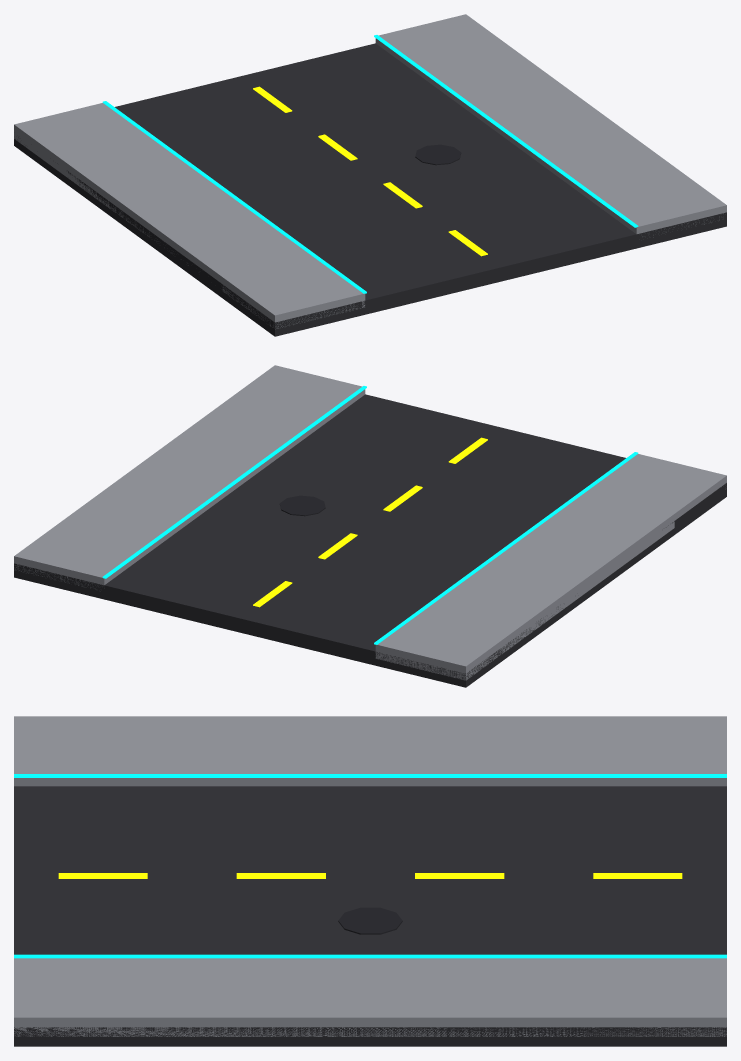
File: Tile_RoadStraight.fbx
3 renders of one model, top to bottom at view 1: azimuth 30°, elevation 25°; view 2: azimuth 150°, elevation 25°; view 3: azimuth 270°, elevation 25°, orthographic. The views are drawn at different scales.
Parts seen in each view (by area): view 1: Tile_RoadStraight_Base, Tile_RoadStraight_Walk-10, Tile_RoadStraight_Walk10, Tile_RoadStraight_Walk-1-1, Tile_RoadStraight_Walk1-1, Tile_RoadStraight_Walk-11, Tile_RoadStraight_Walk11, Tile_RoadStraight_Curb10-10, Tile_RoadStraight_Curb-1010, Tile_RoadStraight_Manhole; view 2: Tile_RoadStraight_Base, Tile_RoadStraight_Walk-10, Tile_RoadStraight_Walk10, Tile_RoadStraight_Walk-11, Tile_RoadStraight_Walk11, Tile_RoadStraight_Walk-1-1, Tile_RoadStraight_Walk1-1, Tile_RoadStraight_Curb10-10, Tile_RoadStraight_Curb-1010, Tile_RoadStraight_Manhole; view 3: Tile_RoadStraight_Base, Tile_RoadStraight_Walk10, Tile_RoadStraight_Walk-10, Tile_RoadStraight_Walk1-1, Tile_RoadStraight_Walk11, Tile_RoadStraight_Walk-1-1, Tile_RoadStraight_Walk-11, Tile_RoadStraight_Curb10-10, Tile_RoadStraight_Curb-1010, Tile_RoadStraight_Manhole, Tile_RoadStraight_Curb1-1-10, Tile_RoadStraight_Curb11-10 (+6 smaller).
Part boxes in pixels (x1=…): Tile_RoadStraight_Base: x1=14, y1=43, x2=726, y2=336; Tile_RoadStraight_Walk-10: x1=66, y1=141, x2=310, y2=283; Tile_RoadStraight_Walk10: x1=427, y1=52, x2=674, y2=195; Tile_RoadStraight_Walk-1-1: x1=222, y1=255, x2=365, y2=329; Tile_RoadStraight_Walk1-1: x1=584, y1=167, x2=726, y2=237; Tile_RoadStraight_Walk-11: x1=14, y1=103, x2=154, y2=176; Tile_RoadStraight_Walk11: x1=375, y1=14, x2=517, y2=80; Tile_RoadStraight_Curb10-10: x1=426, y1=73, x2=585, y2=189; Tile_RoadStraight_Curb-1010: x1=155, y1=139, x2=314, y2=255; Tile_RoadStraight_Manhole: x1=415, y1=144, x2=461, y2=165; Tile_RoadStraight_Base: x1=14, y1=394, x2=726, y2=687; Tile_RoadStraight_Walk-10: x1=430, y1=492, x2=674, y2=641; Tile_RoadStraight_Walk10: x1=66, y1=403, x2=313, y2=546; Tile_RoadStraight_Walk-11: x1=375, y1=606, x2=518, y2=680; Tile_RoadStraight_Walk11: x1=14, y1=518, x2=156, y2=591; Tile_RoadStraight_Walk-1-1: x1=586, y1=454, x2=726, y2=520; Tile_RoadStraight_Walk1-1: x1=223, y1=365, x2=365, y2=431; Tile_RoadStraight_Curb10-10: x1=155, y1=424, x2=314, y2=540; Tile_RoadStraight_Curb-1010: x1=426, y1=490, x2=585, y2=606; Tile_RoadStraight_Manhole: x1=279, y1=495, x2=325, y2=516; Tile_RoadStraight_Base: x1=14, y1=786, x2=726, y2=1046; Tile_RoadStraight_Walk10: x1=156, y1=958, x2=584, y2=1036; Tile_RoadStraight_Walk-10: x1=156, y1=716, x2=584, y2=786; Tile_RoadStraight_Walk1-1: x1=14, y1=958, x2=156, y2=1036; Tile_RoadStraight_Walk11: x1=584, y1=958, x2=726, y2=1036; Tile_RoadStraight_Walk-1-1: x1=14, y1=716, x2=156, y2=786; Tile_RoadStraight_Walk-11: x1=584, y1=716, x2=726, y2=786; Tile_RoadStraight_Curb10-10: x1=156, y1=954, x2=584, y2=958; Tile_RoadStraight_Curb-1010: x1=156, y1=774, x2=584, y2=777; Tile_RoadStraight_Manhole: x1=338, y1=907, x2=402, y2=934; Tile_RoadStraight_Curb1-1-10: x1=14, y1=954, x2=156, y2=958; Tile_RoadStraight_Curb11-10: x1=584, y1=954, x2=726, y2=958.
Bounding box in the file's own units: 2 × 0.095 × 2.
